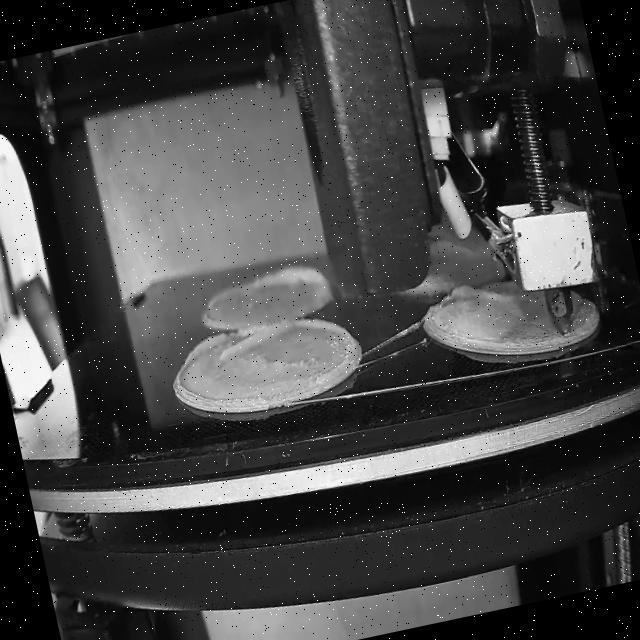over_extrusion: (178, 316, 298, 372), (294, 304, 362, 382), (250, 258, 332, 310), (440, 270, 526, 319)
